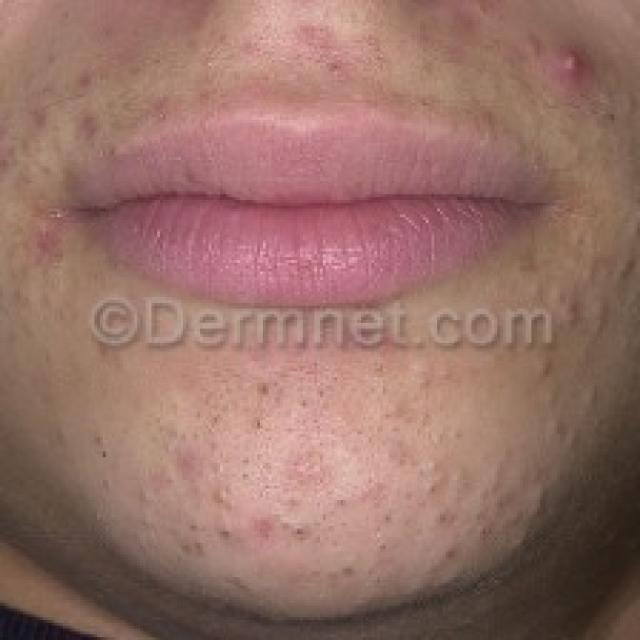Acne: (104, 344, 559, 594), (0, 0, 103, 340), (537, 218, 640, 449), (559, 50, 585, 80)
